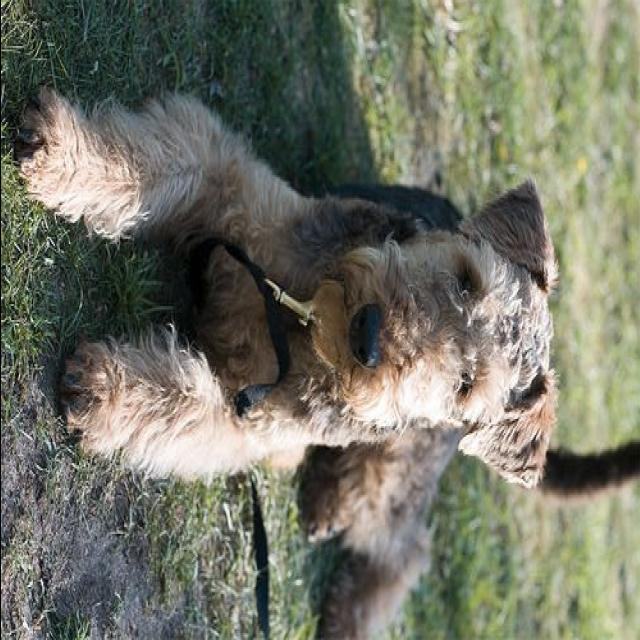airedale: (6, 72, 562, 638)
